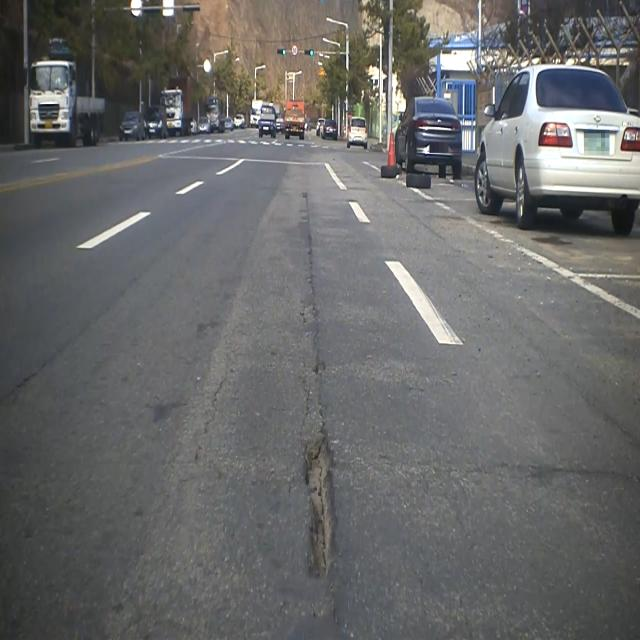Pothole: (298, 420, 348, 588)
